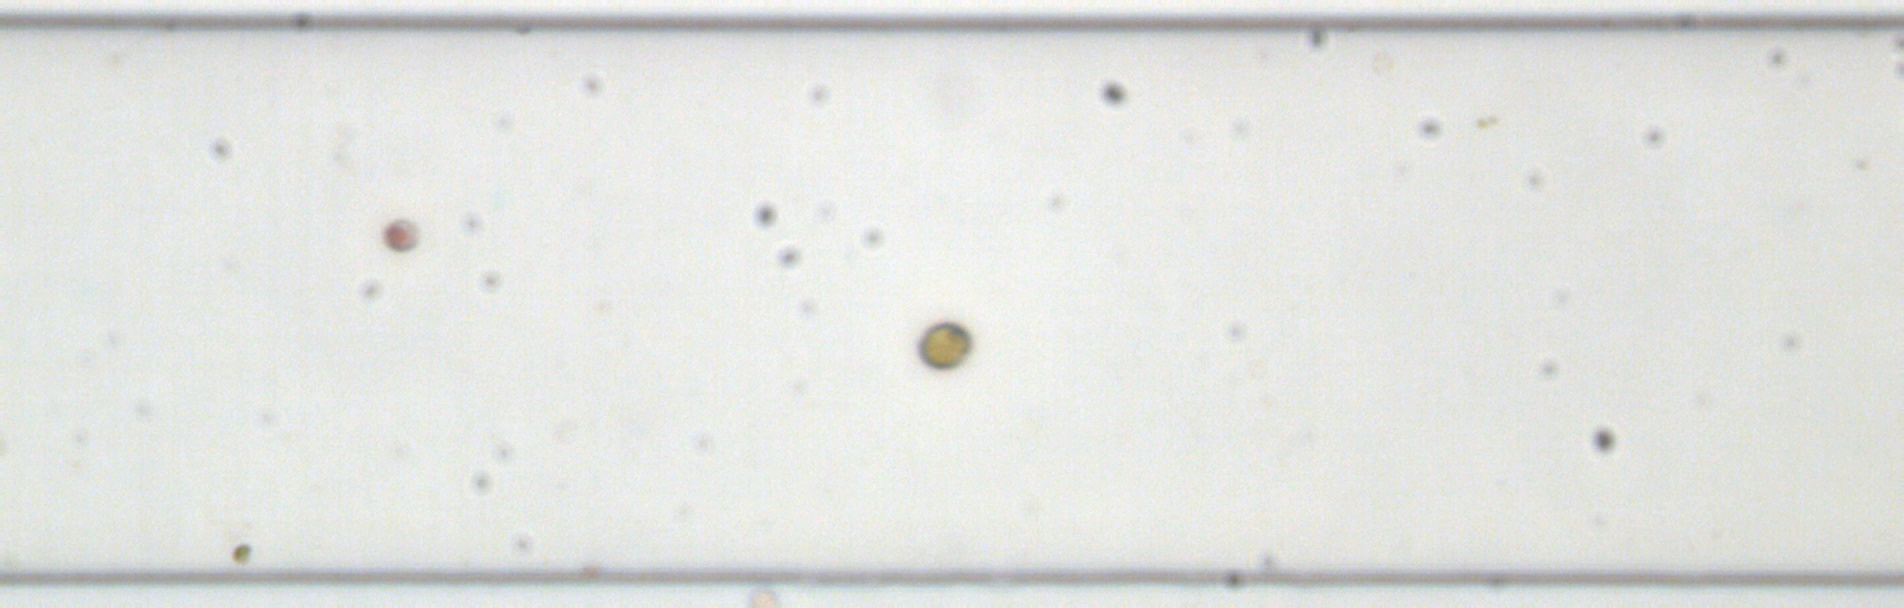Chlorella: (229, 540, 254, 563), (1473, 114, 1491, 130)
Effrenium: (913, 318, 973, 373)
Porphyridium: (381, 216, 423, 254)
